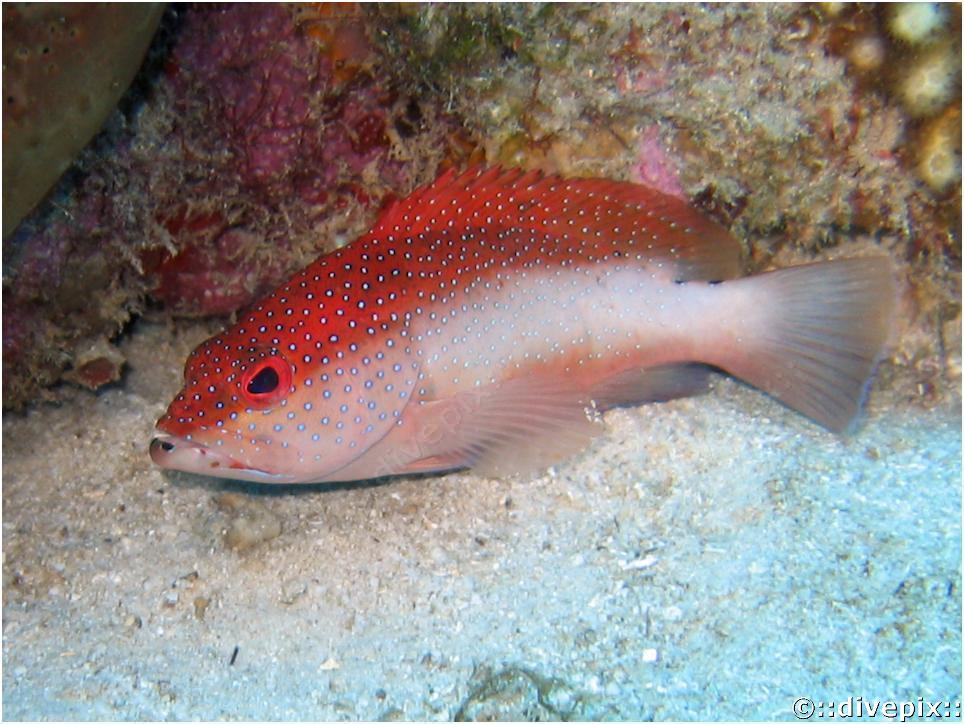Cephalopholis_fulvaw: (141, 139, 922, 526)
